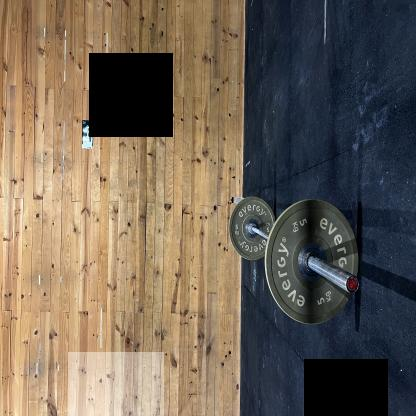barbell: (69, 353, 165, 416)
